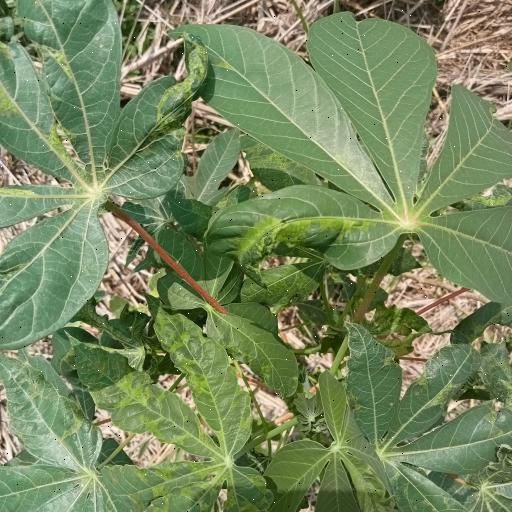Cassava_Mosaic: (202, 18, 512, 305), (0, 2, 214, 330), (74, 313, 264, 511)
